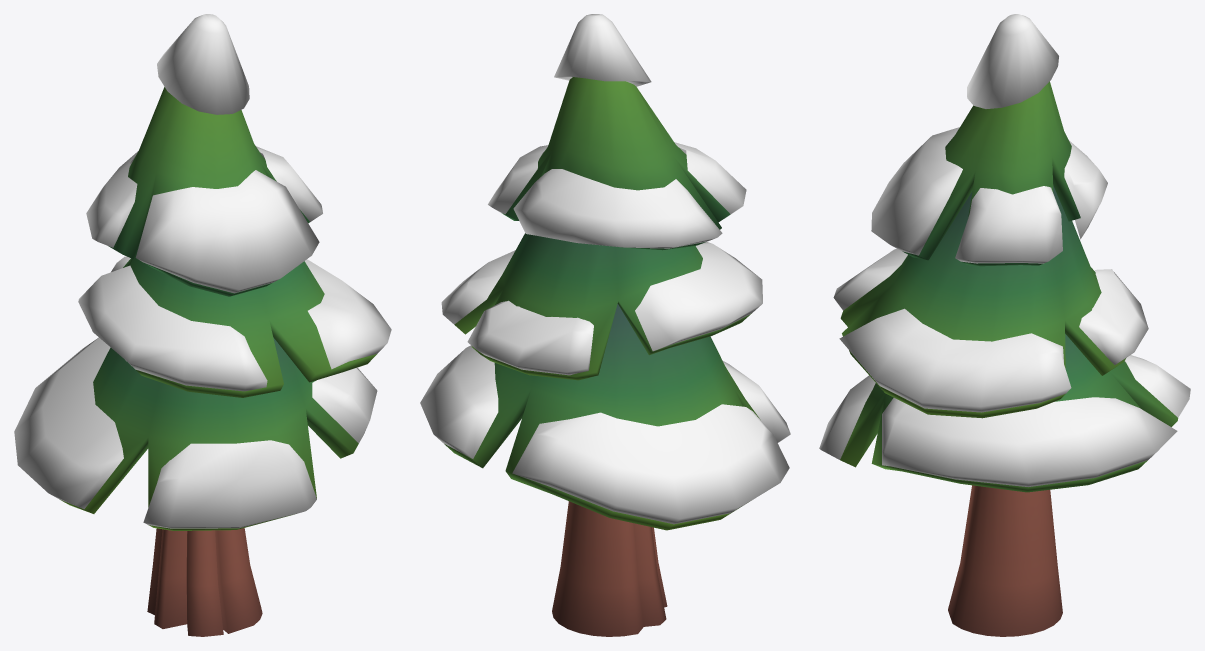
Rendered from Snowy_Pine_Tree_01.fbx.
3 renders of one model, left to right at view 1: azimuth 30°, elevation 25°; view 2: azimuth 150°, elevation 25°; view 3: azimuth 270°, elevation 25°, orthographic.
Visible parts, largest first — view 1: Snowy_Pine_Tree_01; view 2: Snowy_Pine_Tree_01; view 3: Snowy_Pine_Tree_01.
Part boxes in pixels (x1,y1,x2,y2): Snowy_Pine_Tree_01: (14,14,391,636); Snowy_Pine_Tree_01: (420,14,790,636); Snowy_Pine_Tree_01: (819,14,1190,636).
Bounding box in the file's own units: 90.38 × 159 × 89.19.
